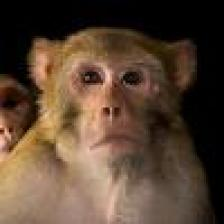monkey: (0, 25, 215, 222), (0, 74, 36, 154)
